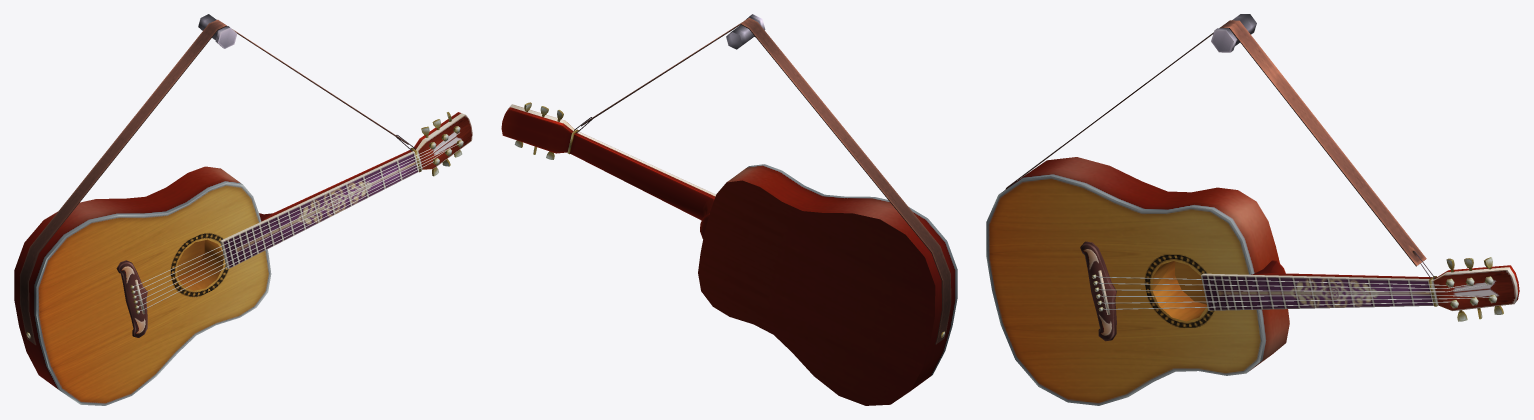
File: PiErSenGongYu_01_jita_01.FBX
3 renders of one model, left to right at view 1: azimuth 30°, elevation 25°; view 2: azimuth 150°, elevation 25°; view 3: azimuth 330°, elevation 25°, orthographic. The views are drawn at different scales.
Visible parts, largest first — view 1: PiErSenGongYu_01_jita_01; view 2: PiErSenGongYu_01_jita_01; view 3: PiErSenGongYu_01_jita_01.
Part boxes in pixels (x1=…): PiErSenGongYu_01_jita_01: x1=14, y1=14, x2=472, y2=405; PiErSenGongYu_01_jita_01: x1=501, y1=14, x2=957, y2=405; PiErSenGongYu_01_jita_01: x1=986, y1=14, x2=1519, y2=405.
Size of the model in its own units: 567 by 420 by 65.38.
Materials: 1 (1 with a texture image).
